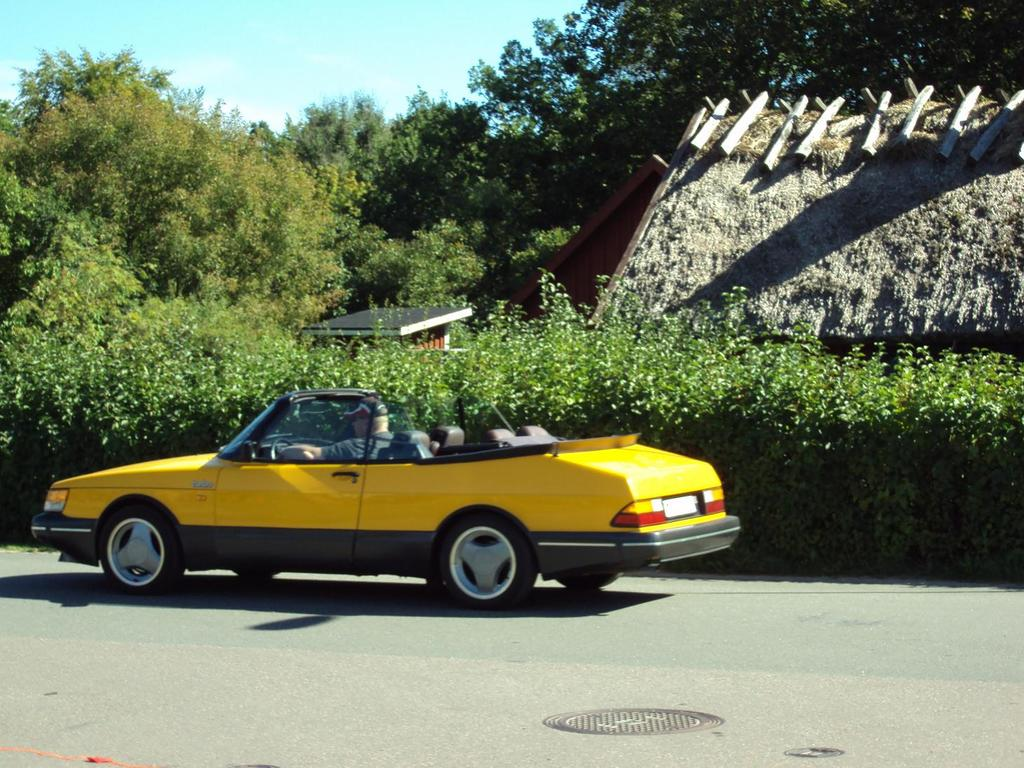cars: (12, 387, 722, 614)
